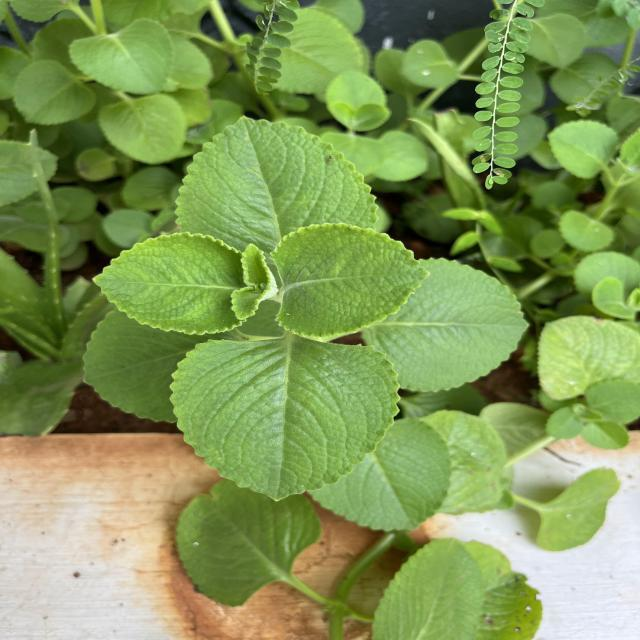Plectranthus barbatus: (168, 336, 402, 502), (172, 113, 380, 234), (367, 255, 531, 394), (172, 478, 324, 608), (271, 220, 430, 339), (90, 232, 258, 336), (316, 417, 453, 534), (534, 314, 640, 401), (67, 18, 176, 95), (98, 94, 186, 166), (12, 60, 98, 126), (546, 118, 620, 180)
